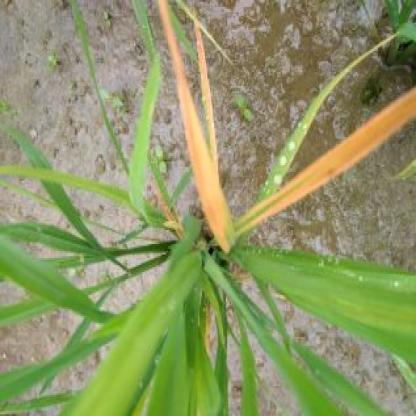Tungro: (162, 6, 227, 247)
